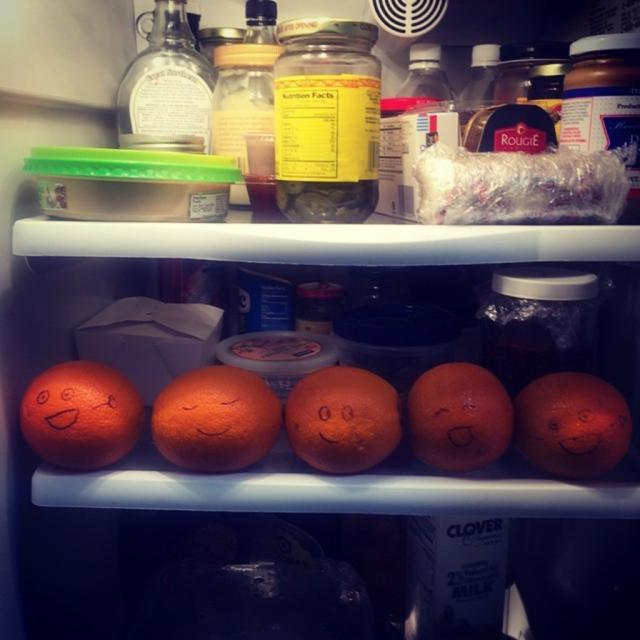refrigerator: (39, 7, 627, 620)
